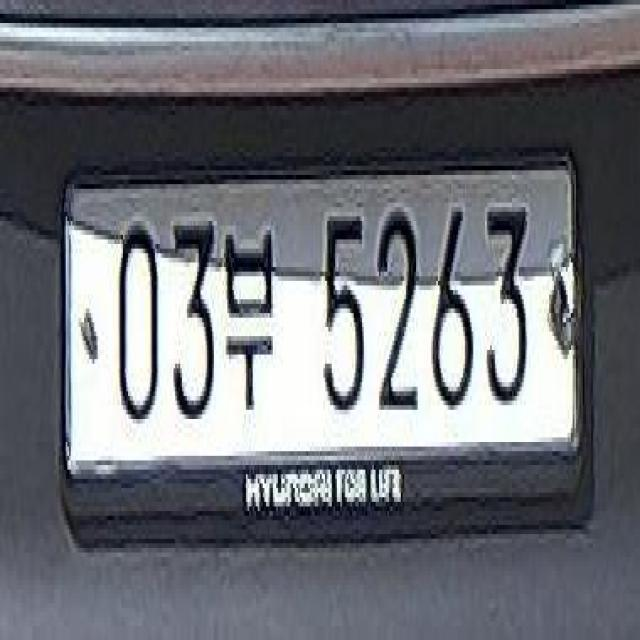illegal_plate: (65, 142, 592, 538)
